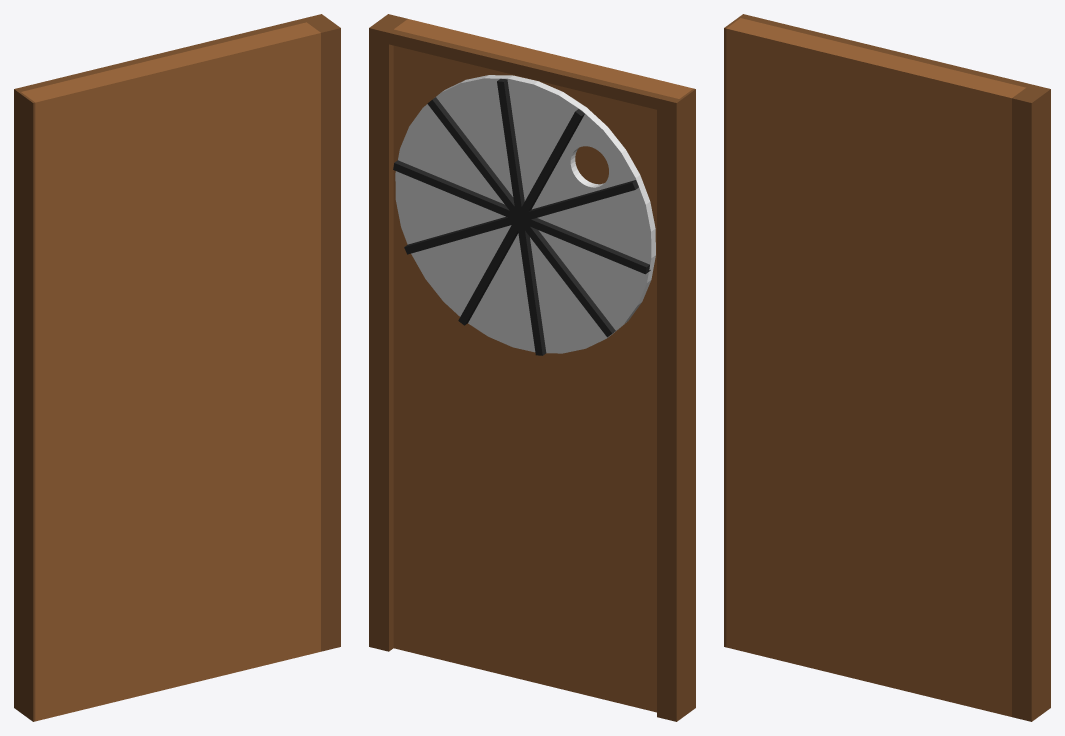
Rendered from Wheel Board.fbx.
3 views of the same model, side by side, from view 1: azimuth 30°, elevation 25°; view 2: azimuth 150°, elevation 25°; view 3: azimuth 330°, elevation 25° (orthographic).
Visible parts, largest first — view 1: Backboard, Edges; view 2: Backboard, Wheel, Edges; view 3: Backboard, Edges.
Boxes of the visible parts, x1,y1,x2,y2 form: Backboard: [21, 22, 320, 721]; Edges: [14, 14, 340, 721]; Backboard: [393, 19, 693, 712]; Wheel: [393, 75, 655, 355]; Edges: [369, 14, 695, 721]; Backboard: [726, 18, 1025, 716]; Edges: [724, 14, 1050, 721].
Size of the model in its own units: 13.57 by 26.07 by 1.73.
